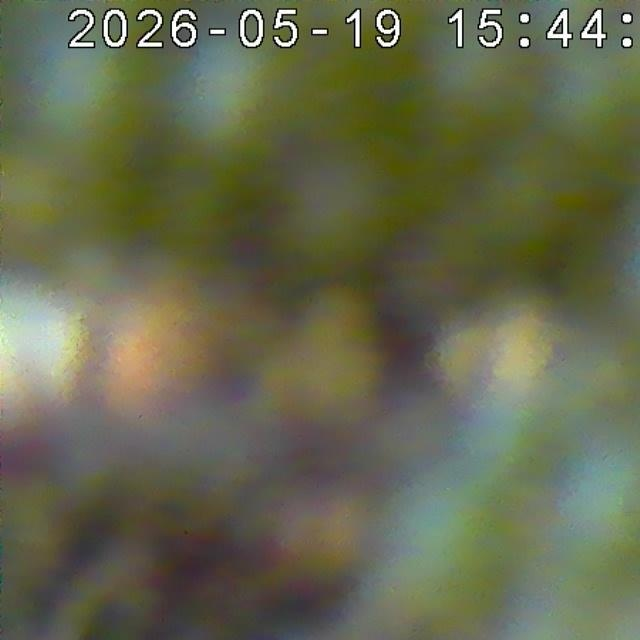SeaGrape: (377, 473, 526, 632), (15, 34, 151, 175), (155, 29, 286, 172), (533, 423, 640, 577), (528, 37, 640, 161)
